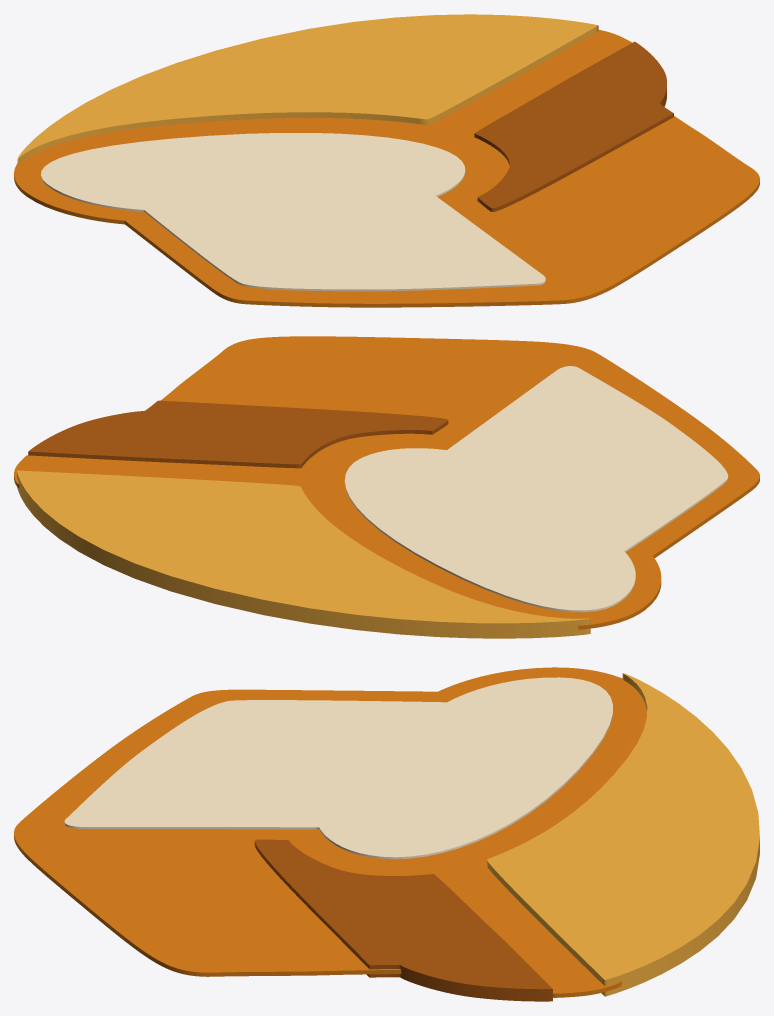
Rendered from emoji_u1f35e.glb.
The picture shows the model from 3 angles, top to bottom: view 1: azimuth 30°, elevation 25°; view 2: azimuth 150°, elevation 25°; view 3: azimuth 270°, elevation 25°; orthographic projection. The views are drawn at different scales.
Parts seen in each view (by area): view 1: emoji_u1f35e; view 2: emoji_u1f35e; view 3: emoji_u1f35e.
Part boxes in pixels (x1,y1,x2,y2): emoji_u1f35e: (14,14,759,307); emoji_u1f35e: (14,336,759,638); emoji_u1f35e: (14,667,759,1001).
Bounding box in the file's own units: 0.0339 × 0.0008 × 0.0327.
